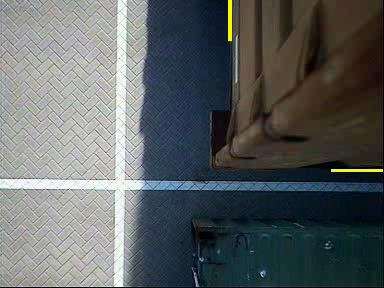groundmarker_2: (99, 214, 175, 264), (95, 92, 170, 142)
